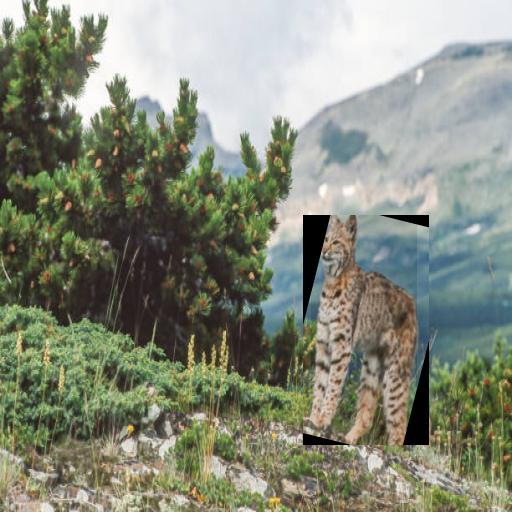lynx: (311, 215, 417, 445)
